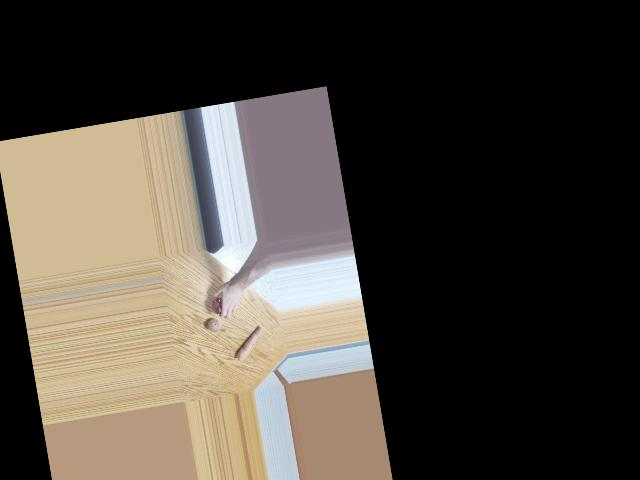onion: (208, 316, 222, 331)
